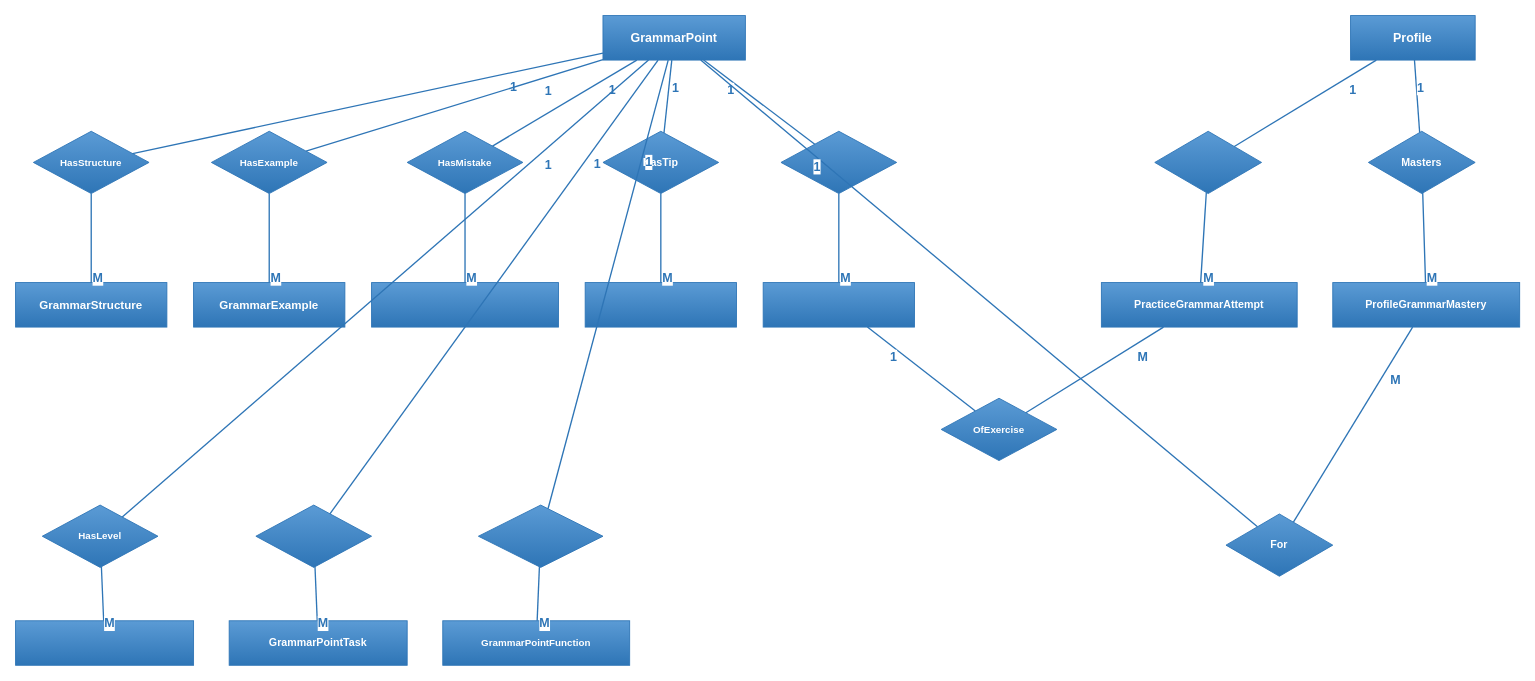
Image size: 1535x681. Some labels were removed from this diagram. Here are the shapes that lost their labels. From the top down, the centre of each, then its label:
At pixel 838 162: "HasExercise".
At pixel 1208 162: "Attempts".
At pixel 464 304: "GrammarCommonMistake".
At pixel 660 304: "GrammarVstepTip".
At pixel 838 304: "GrammarExercise".
At pixel 313 535: "HasTask".
At pixel 540 535: "HasFunction".
At pixel 104 642: "GrammarPointLevel".
